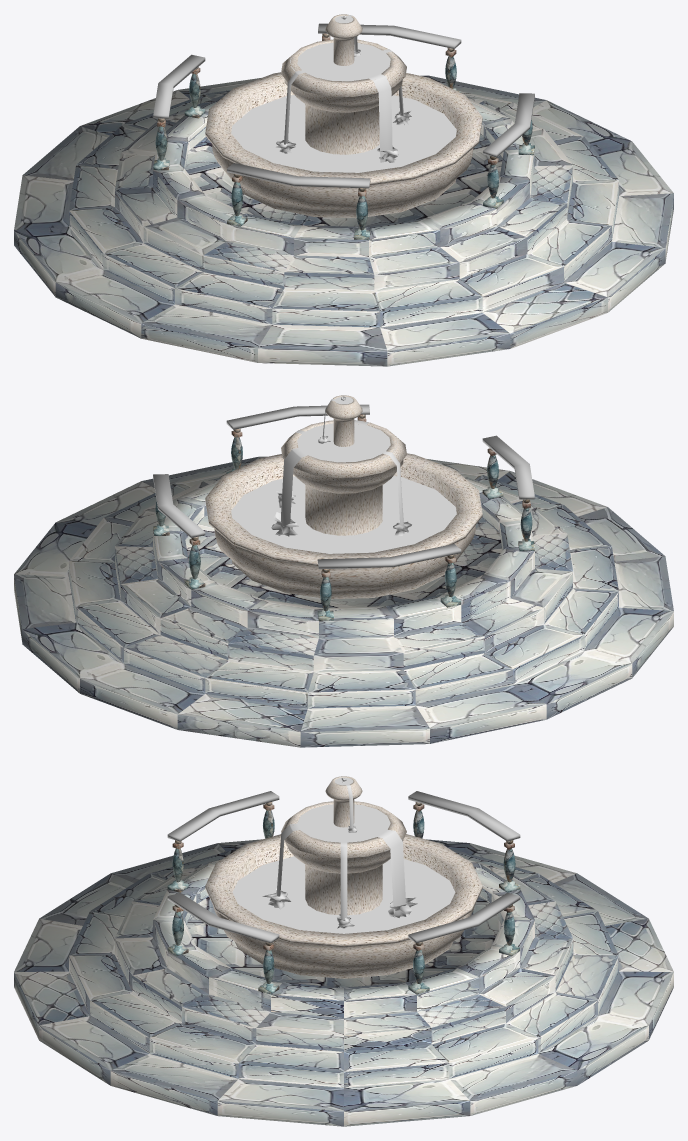
Rendered from Fountain_ForestProp_002.fbx.
3 renders of one model, top to bottom at view 1: azimuth 30°, elevation 25°; view 2: azimuth 150°, elevation 25°; view 3: azimuth 270°, elevation 25°, orthographic.
Visible parts, largest first — view 1: ladder, fountain, Spray.001, Spray.002, Handrail.003, Handrail.002, Handrail, Handrail.001, WaterFlow.002, Pillar.001, Pillar.008, Pillar.005 (+2 smaller); view 2: ladder, fountain, Spray.001, Spray.002, Handrail.002, Handrail.003, Handrail.001, Handrail, WaterFlow.003, Pillar.003, Pillar.005, Pillar.006 (+2 smaller); view 3: ladder, fountain, Spray.001, Spray.002, Handrail.001, Handrail, Handrail.002, Handrail.003, WaterFlow.003, WaterFlow.001, Pillar.004, Pillar.006 (+4 smaller).
Boxes of the visible parts, bbox=[...] form: ladder: bbox=[14, 75, 673, 366]; fountain: bbox=[205, 14, 482, 218]; Spray.001: bbox=[231, 95, 456, 172]; Spray.002: bbox=[290, 42, 390, 82]; Handrail.003: bbox=[227, 163, 370, 188]; Handrail.002: bbox=[153, 54, 205, 118]; Handrail: bbox=[483, 93, 534, 157]; Handrail.001: bbox=[318, 23, 461, 48]; WaterFlow.002: bbox=[368, 74, 392, 162]; Pillar.001: bbox=[483, 156, 503, 208]; Pillar.008: bbox=[227, 173, 247, 226]; Pillar.005: bbox=[153, 118, 169, 170]; ladder: bbox=[14, 456, 673, 747]; fountain: bbox=[205, 395, 482, 599]; Spray.001: bbox=[231, 476, 456, 553]; Spray.002: bbox=[297, 423, 397, 465]; Handrail.002: bbox=[317, 544, 461, 569]; Handrail.003: bbox=[482, 435, 534, 499]; Handrail.001: bbox=[153, 474, 205, 537]; Handrail: bbox=[226, 404, 369, 429]; WaterFlow.003: bbox=[281, 448, 307, 536]; Pillar.003: bbox=[184, 536, 205, 589]; Pillar.005: bbox=[440, 554, 460, 607]; Pillar.006: bbox=[317, 569, 333, 620]; ladder: bbox=[14, 839, 673, 1126]; fountain: bbox=[205, 776, 482, 978]; Spray.001: bbox=[232, 856, 455, 933]; Spray.002: bbox=[297, 801, 390, 842]; Handrail.001: bbox=[408, 892, 520, 943]; Handrail: bbox=[167, 892, 279, 943]; Handrail.002: bbox=[408, 791, 520, 841]; Handrail.003: bbox=[167, 791, 279, 841]; WaterFlow.003: bbox=[377, 829, 405, 917]; WaterFlow.001: bbox=[340, 842, 347, 928]; Pillar.004: bbox=[408, 942, 429, 994]; Pillar.006: bbox=[499, 840, 520, 892].
Bounding box in the file's own units: 1728 × 605 × 1728.
